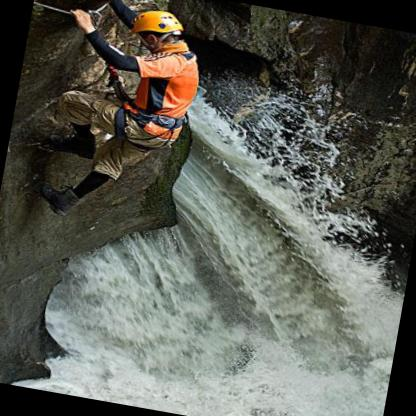helmet: (116, 0, 197, 62)
